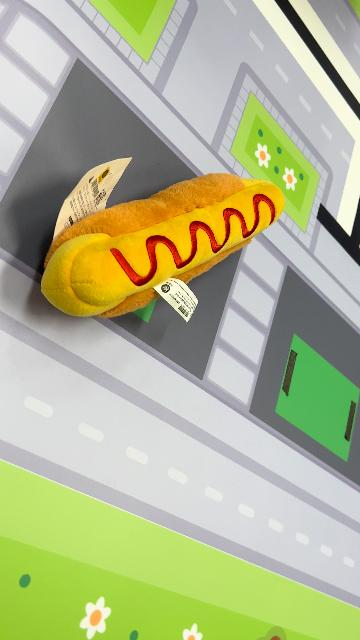hotdog: (40, 172, 286, 321)
